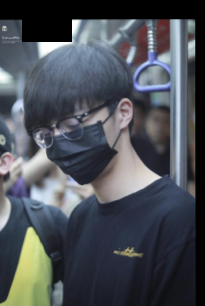with_mask: (37, 100, 122, 186)
